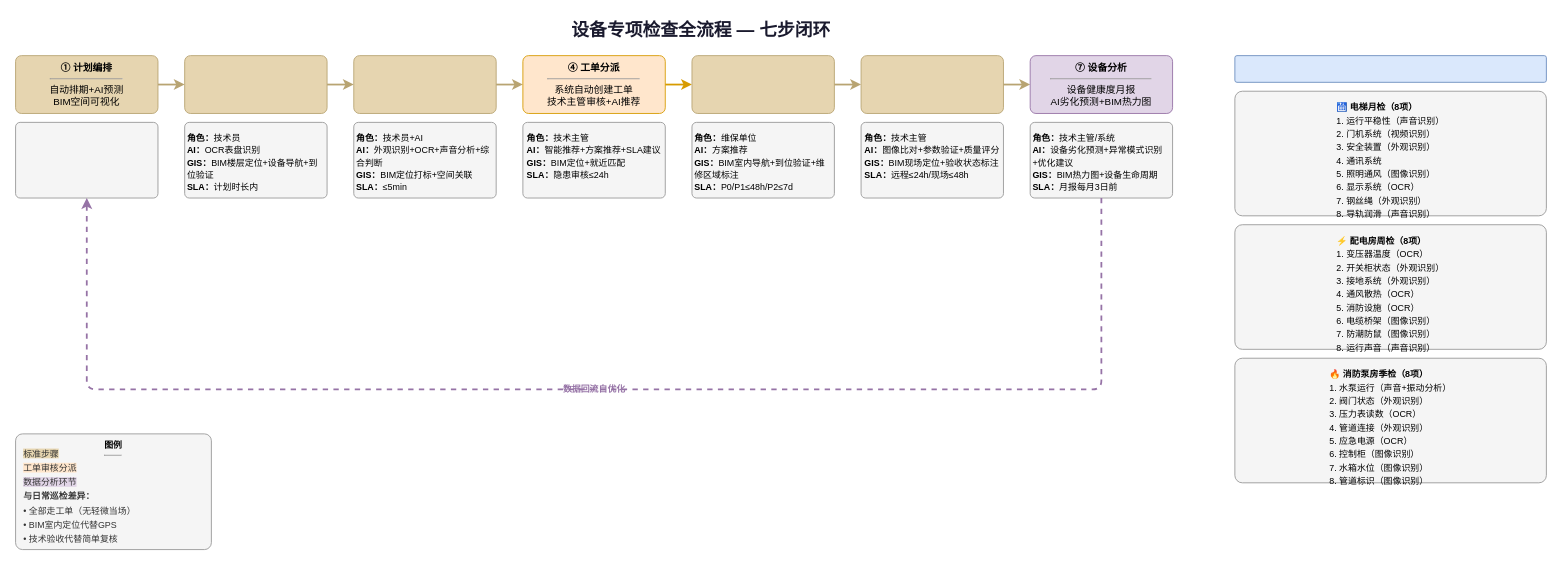
Image size: 1562x565. Some labels were removed from this diagram. The shapes that lost their labels are listed below. From the top down, each one's centre as x and y in pixels, then its label:
At point (255, 84): "② 清单执行 按设备checklist检查 OCR表盘识别+BIM定位".
At point (424, 84): "③ 异常发现 AI外观识别+OCR +声音分析综合判断".
At point (762, 84): "⑤ 维修处置 维保单位现场维修 BIM室内导航+到位验证".
At point (931, 84): "⑥ 技术验收 技术主管远程/现场 AI参数验证+质量评分".
At point (1390, 68): "设备检查清单模板".
At point (86, 159): "角色： 技术主管/技术员 AI： 预测分析+智能排期 GIS： BIM空间可视化+设备分布分析 SLA： 检前1天".
